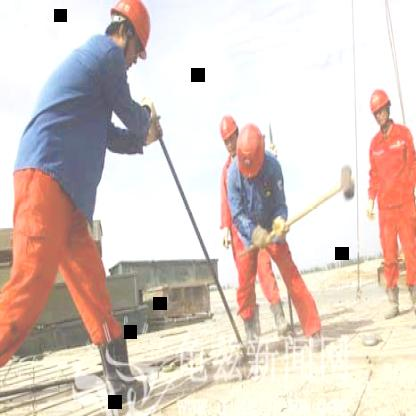helmet: (105, 0, 153, 63), (238, 122, 265, 178), (367, 85, 394, 131), (218, 110, 240, 157)
